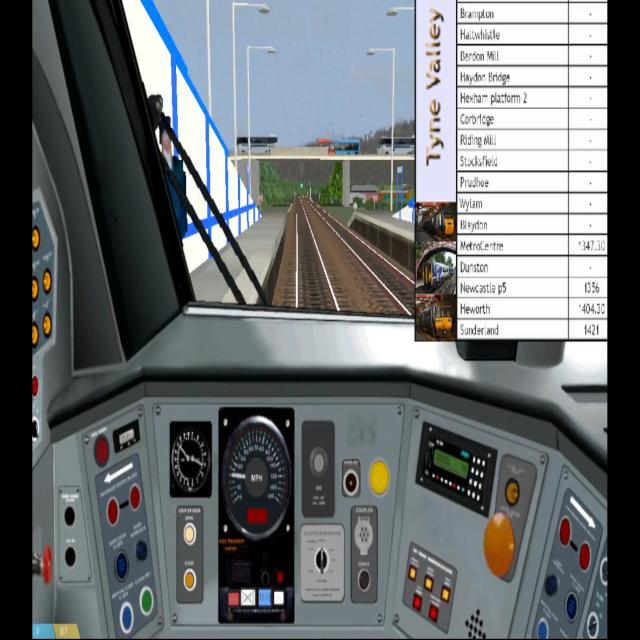Platform: (189, 205, 291, 307), (346, 209, 415, 279)
Spedometer: (217, 406, 297, 626)
Station: (123, 0, 268, 273), (385, 190, 416, 229)
Track: (303, 195, 414, 318), (275, 192, 356, 312)
